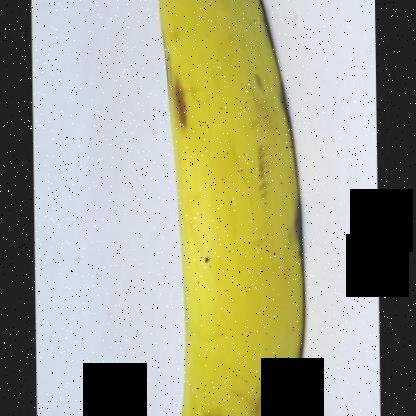freshripe: (134, 1, 322, 416)
